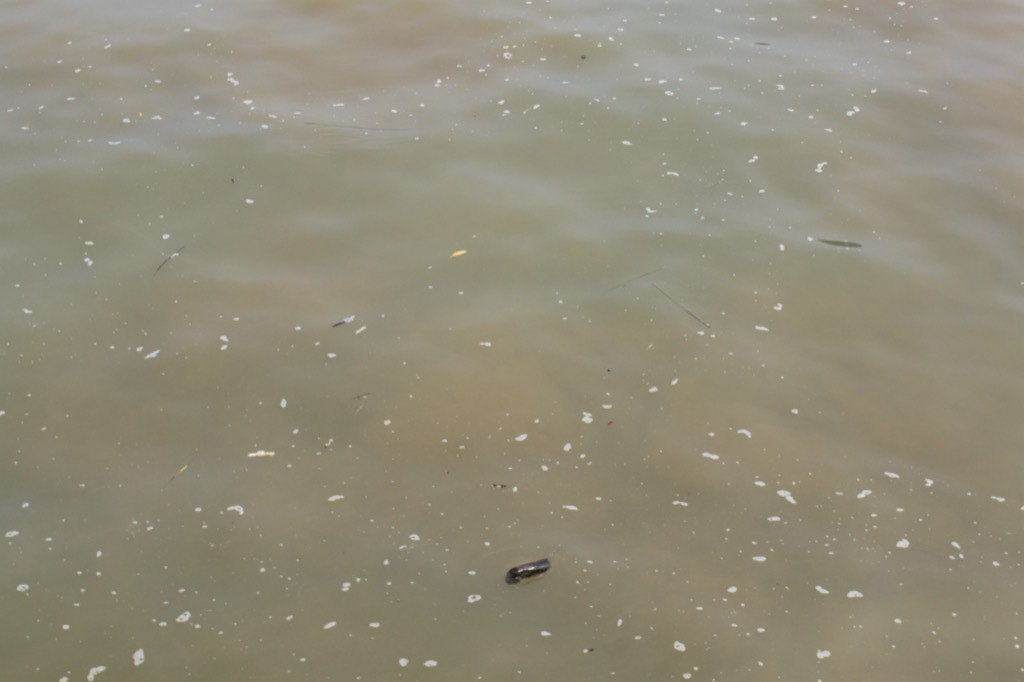organic: (640, 272, 731, 349), (485, 542, 560, 600), (307, 295, 376, 342), (138, 239, 198, 283), (481, 472, 524, 499), (441, 243, 479, 267)
plastic: (232, 439, 284, 471)
